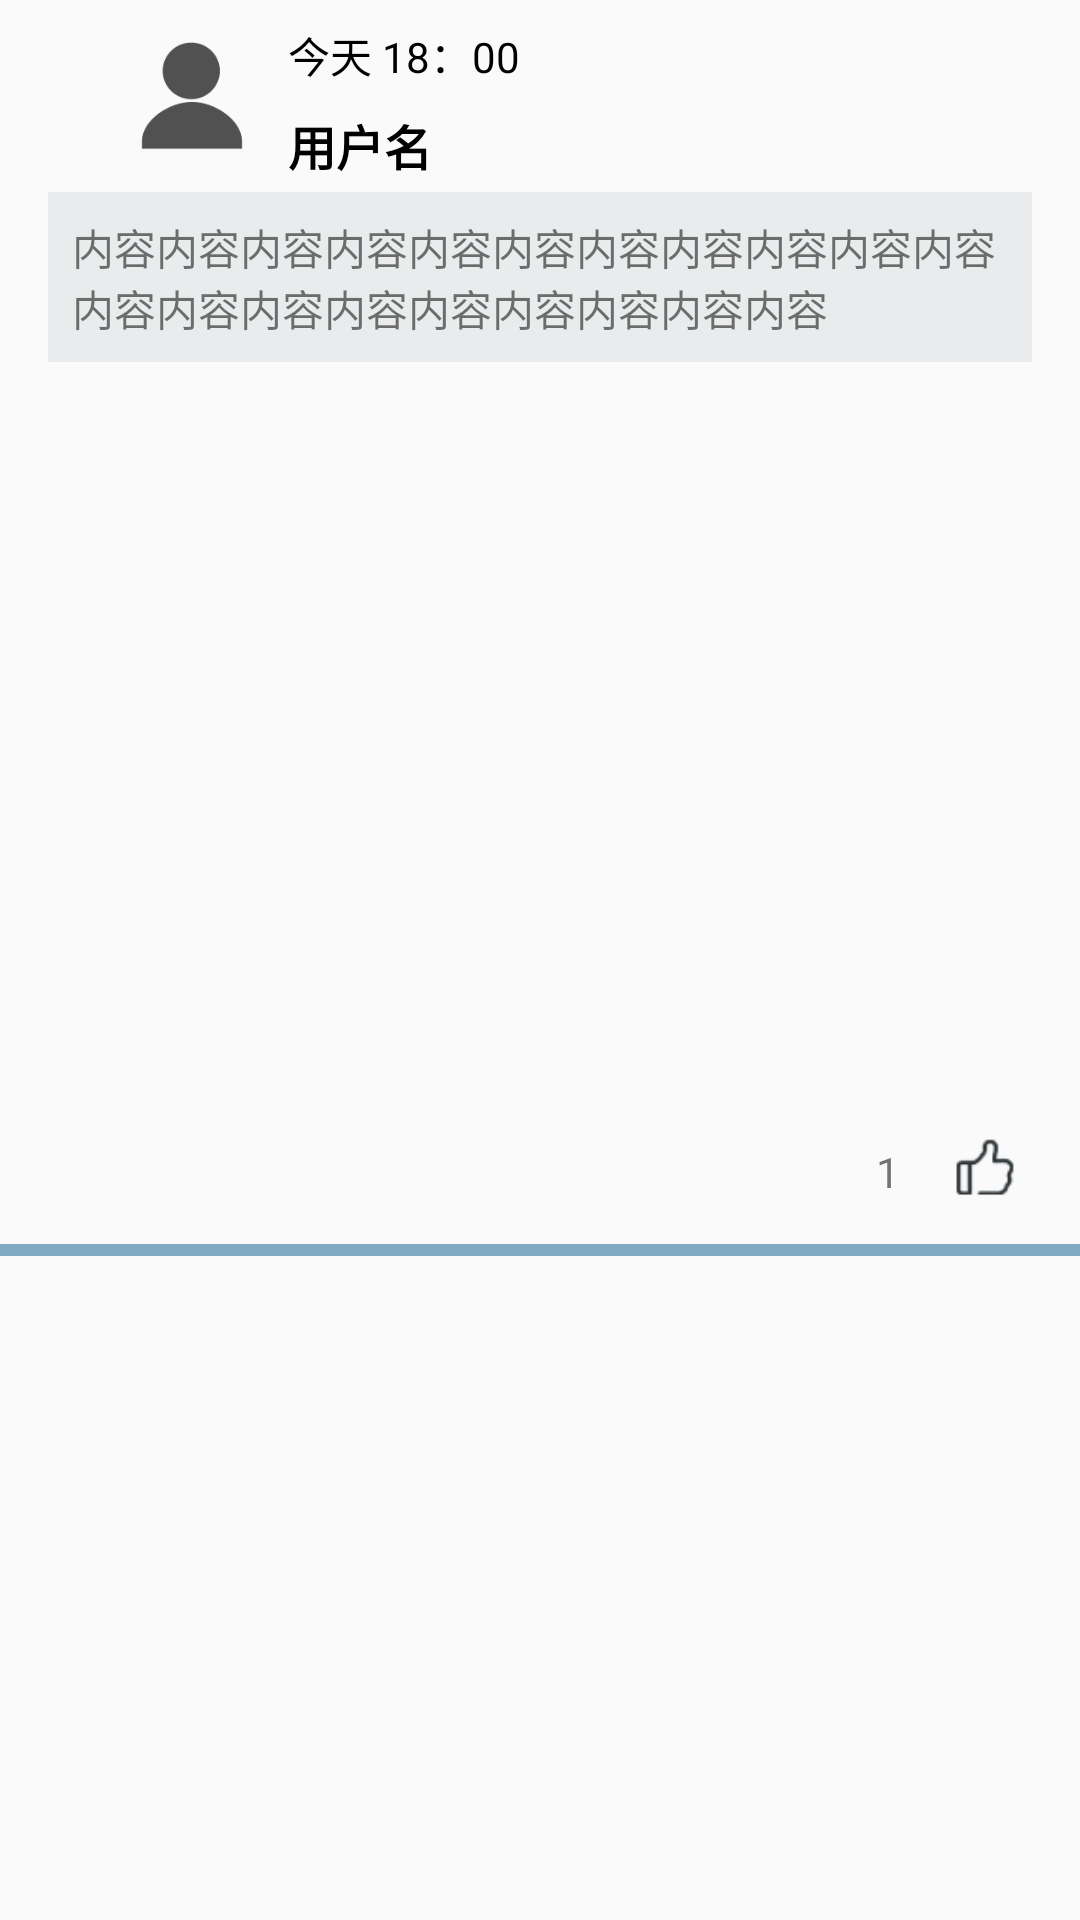

Icons on this 1080*1920 Android screen, each with the point to tap as point (x, y):
like: point (985, 1167)
usernoimg: point (192, 95)
